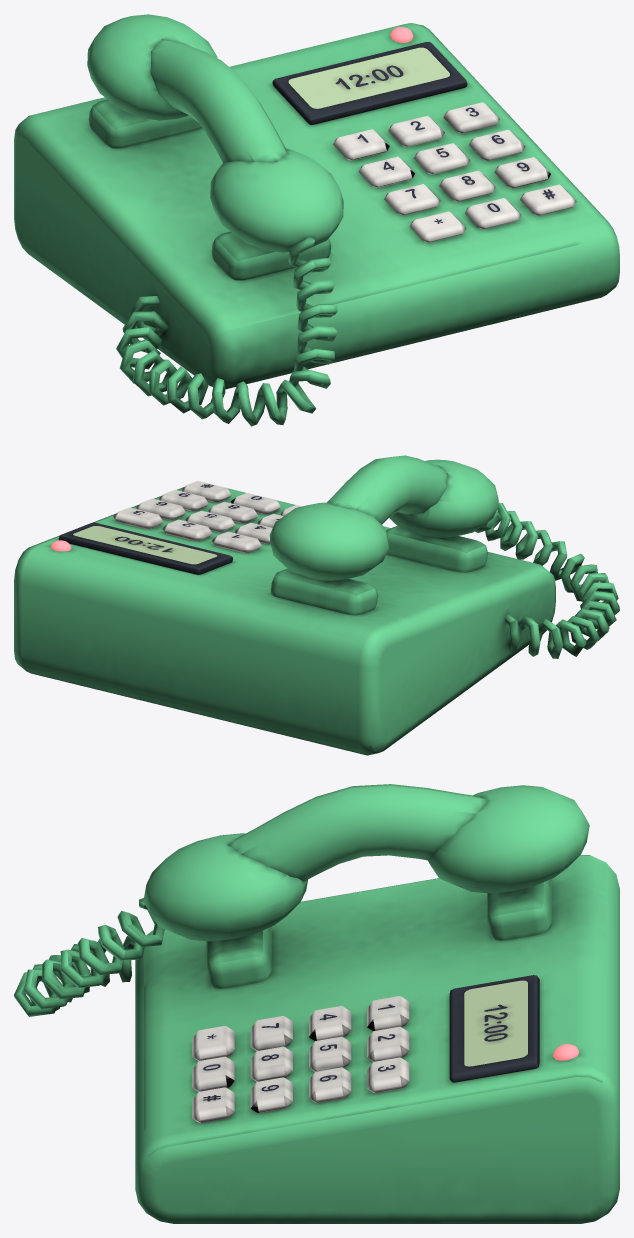
The model's file is desk_phone.glb.
3 renders of one model, top to bottom at view 1: azimuth 30°, elevation 25°; view 2: azimuth 150°, elevation 25°; view 3: azimuth 270°, elevation 25°, orthographic. The views are drawn at different scales.
Parts seen in each view (by area): view 1: desk_phone; view 2: desk_phone; view 3: desk_phone.
Boxes of the visible parts, <box> form: desk_phone: <box>14,14,619,426</box>; desk_phone: <box>14,455,619,755</box>; desk_phone: <box>14,784,619,1223</box>.
Size of the model in its own units: 0.231 by 0.1116 by 0.225.
6 materials, 5 textured.
